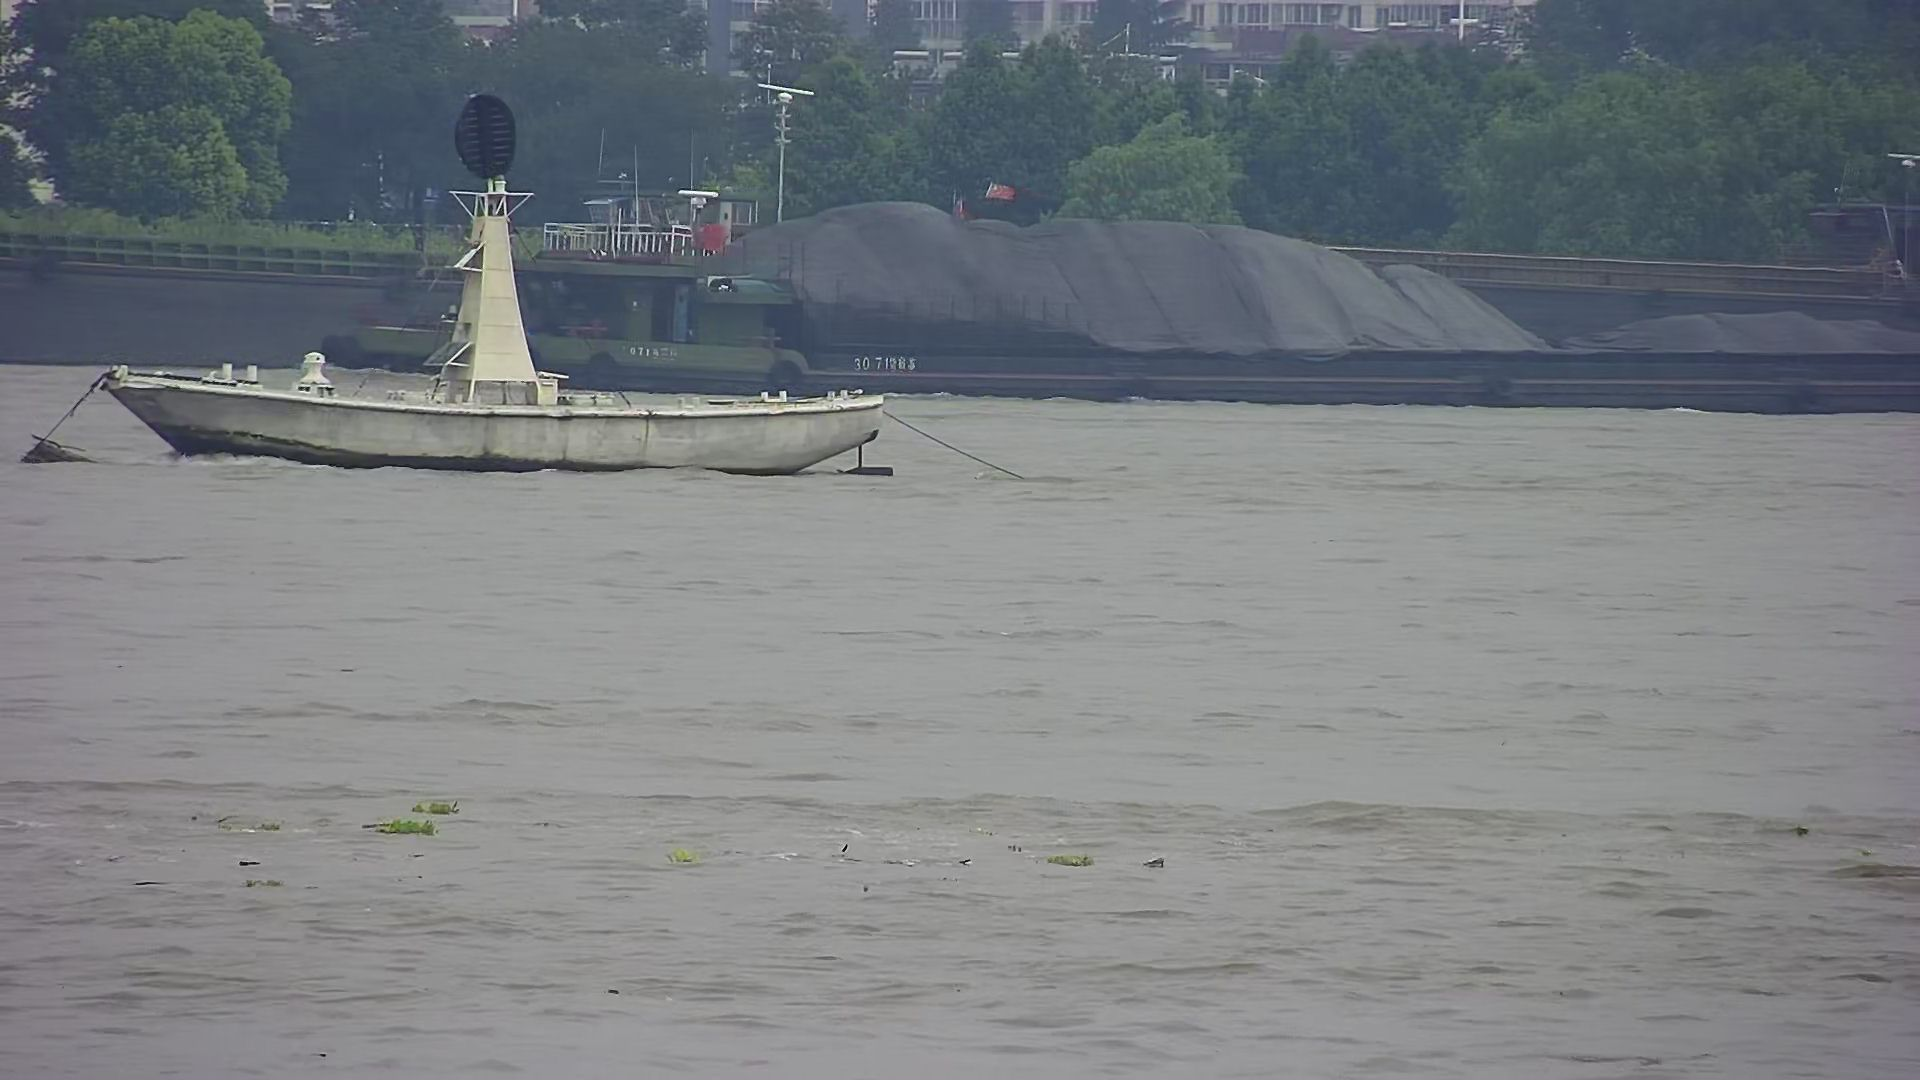boat: (84, 86, 899, 481)
grass: (397, 789, 464, 816), (215, 811, 291, 832), (367, 814, 434, 837), (1035, 851, 1095, 868)
ship: (315, 251, 1917, 415)
